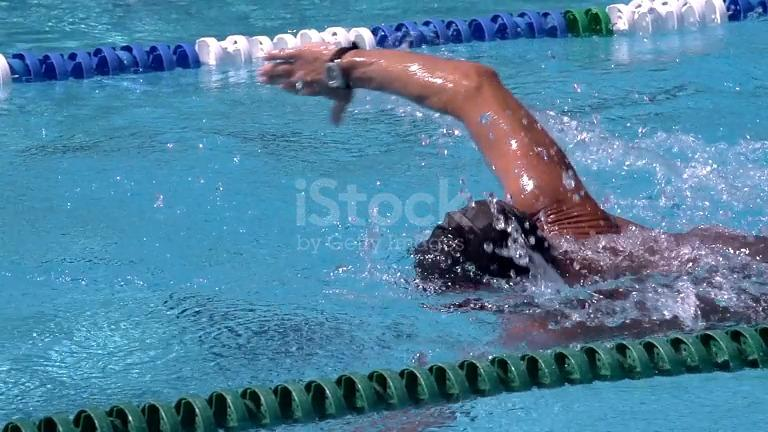Swimming: (126, 14, 736, 343)
